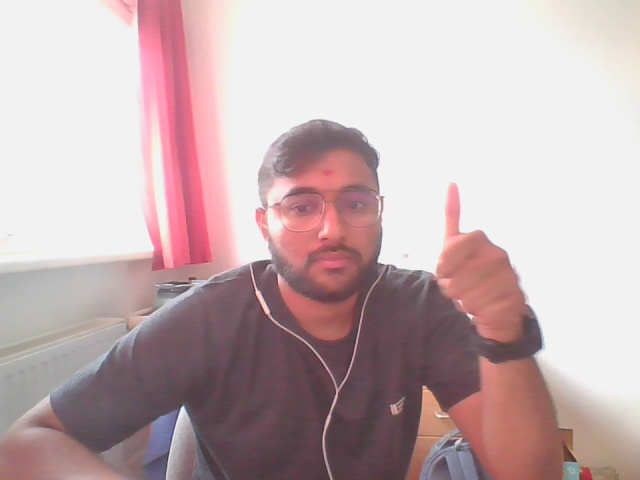ThumbsUp: (430, 176, 532, 337)
